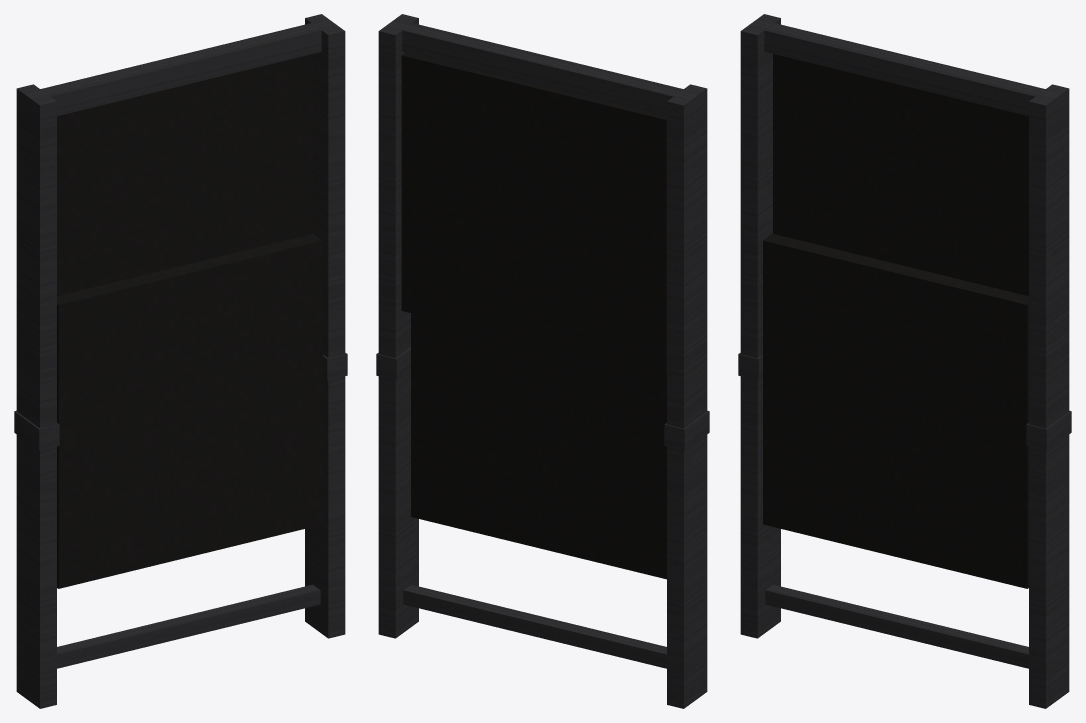
The model's file is chair_folded.glb.
3 renders of one model, left to right at view 1: azimuth 30°, elevation 25°; view 2: azimuth 150°, elevation 25°; view 3: azimuth 330°, elevation 25°, orthographic.
Parts seen in each view (by area): view 1: chair_folded; view 2: chair_folded; view 3: chair_folded.
Boxes of the visible parts, bbox=[...] form: chair_folded: bbox=[14, 14, 347, 708]; chair_folded: bbox=[376, 14, 709, 708]; chair_folded: bbox=[738, 14, 1071, 708].
Bounding box in the file's own units: 0.455 × 0.85 × 0.064.
2 materials, 2 textured.
